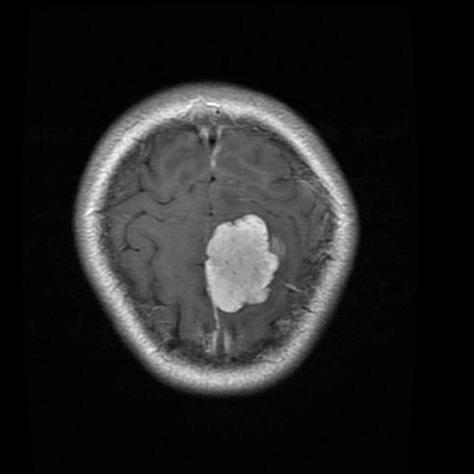Tumour-Pituitary: (197, 204, 295, 325)
